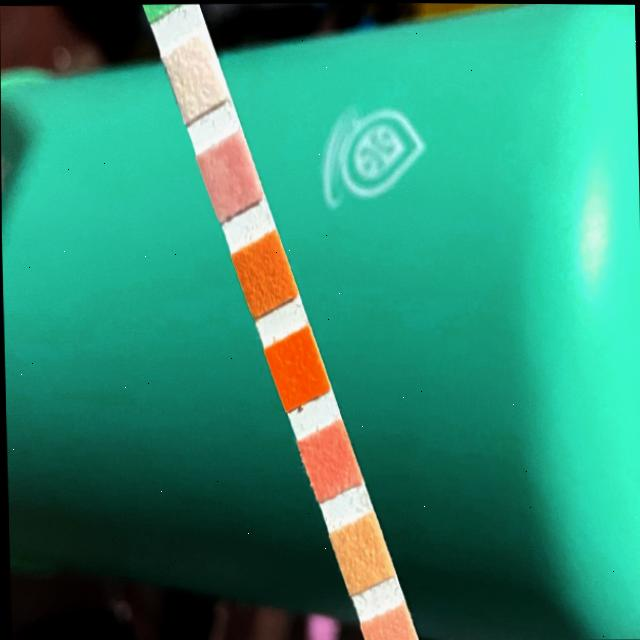Bilirubin: (175, 50, 215, 107)
Blood: (275, 342, 315, 399)
Ketone: (208, 152, 251, 206)
Protein: (340, 527, 379, 582)
SpGravity: (244, 250, 284, 303)
Urobilinogen: (374, 618, 410, 640)
pH: (307, 437, 348, 489)
